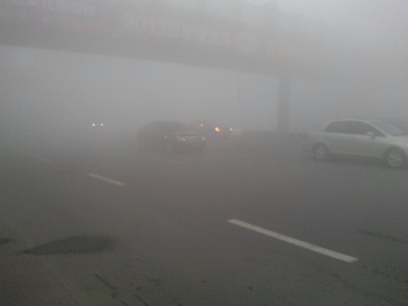car: (305, 117, 408, 170), (137, 119, 206, 154), (188, 118, 233, 138)
